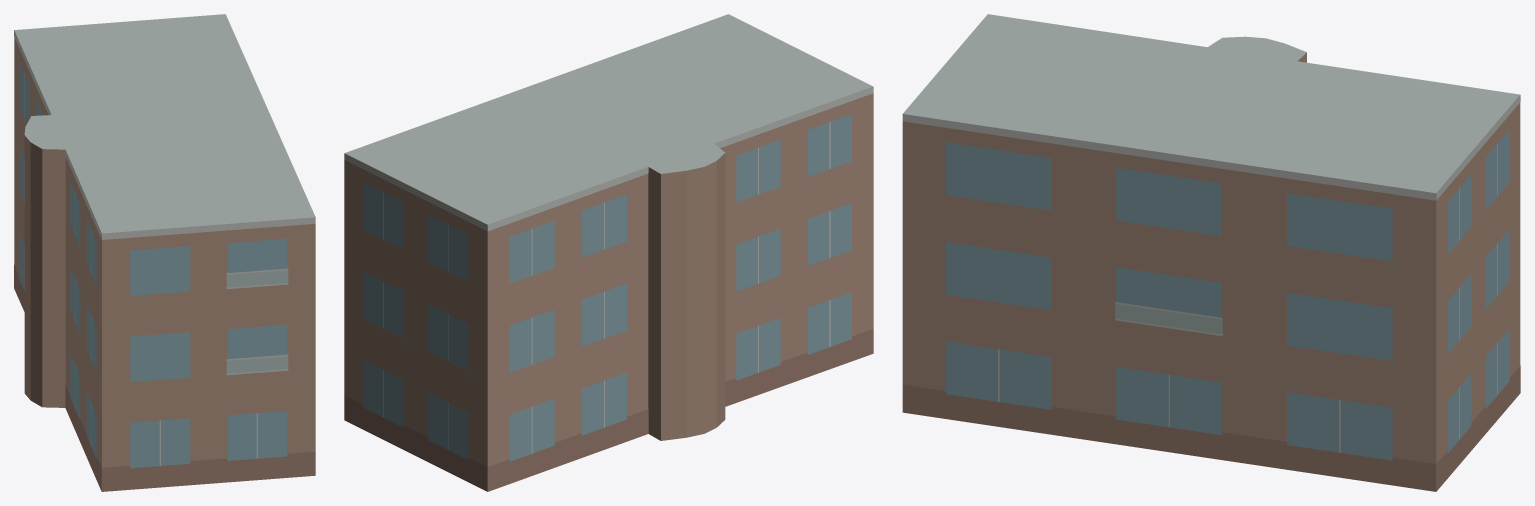
File: survey-upis-32887680.glb
The picture shows the model from 3 angles, left to right: view 1: azimuth 30°, elevation 25°; view 2: azimuth 150°, elevation 25°; view 3: azimuth 270°, elevation 25°; orthographic projection. The views are drawn at different scales.
Parts seen in each view (by area): view 1: survey-upis-32887680.tmp; view 2: survey-upis-32887680.tmp; view 3: survey-upis-32887680.tmp.
Part boxes in pixels (<box>): survey-upis-32887680.tmp: <box>14,14,315,491</box>; survey-upis-32887680.tmp: <box>344,14,873,491</box>; survey-upis-32887680.tmp: <box>902,14,1520,491</box>.
Size of the model in its own units: 12.63 by 9.8 by 18.39.
